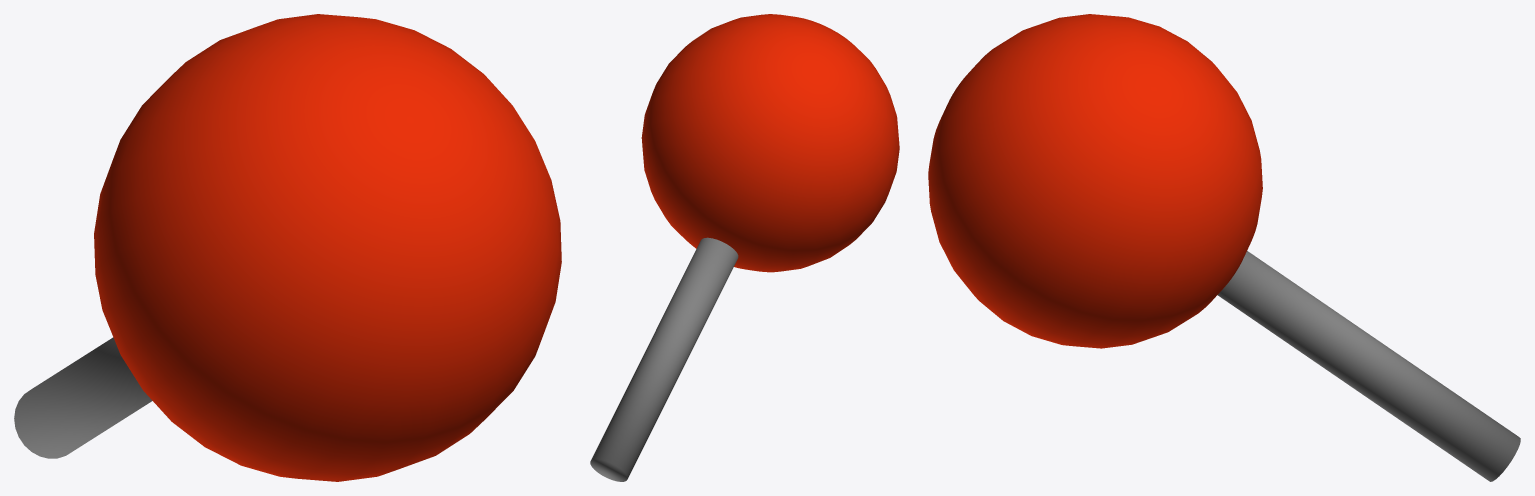
Rendered from tele_master_lever.fbx.
The picture shows the model from 3 angles, left to right: view 1: azimuth 30°, elevation 25°; view 2: azimuth 150°, elevation 25°; view 3: azimuth 270°, elevation 25°; orthographic projection. The views are drawn at different scales.
Parts seen in each view (by area): view 1: Master lever; view 2: Master lever; view 3: Master lever.
Boxes of the visible parts, x1=… form: Master lever: x1=14, y1=14, x2=561, y2=481; Master lever: x1=590, y1=14, x2=899, y2=481; Master lever: x1=928, y1=14, x2=1520, y2=481.
Bounding box in the file's own units: 19.02 × 27.99 × 33.64.
